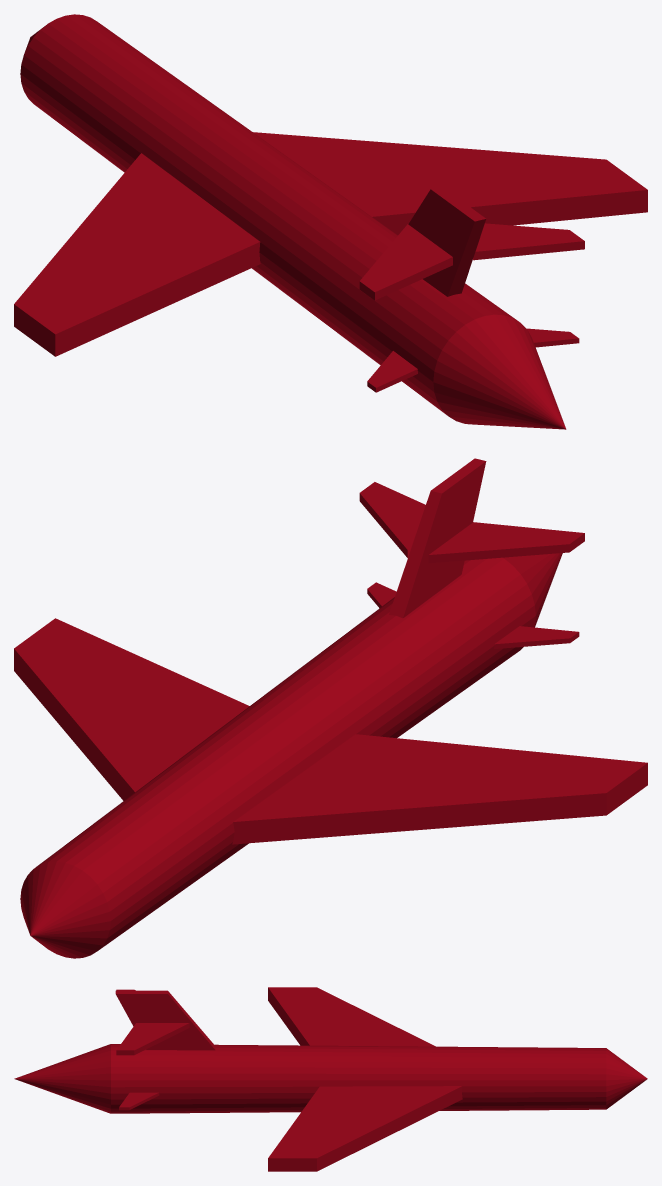
Rendered from samolot_przeciwnik.glb.
3 views of the same model, one above another, from view 1: azimuth 30°, elevation 25°; view 2: azimuth 150°, elevation 25°; view 3: azimuth 270°, elevation 25° (orthographic). The views are drawn at different scales.
Parts seen in each view (by area): view 1: Cylinder; view 2: Cylinder; view 3: Cylinder.
Part boxes in pixels (left/top/right/bottom): Cylinder: left=14, top=14, right=647, bottom=429; Cylinder: left=14, top=458, right=647, bottom=958; Cylinder: left=14, top=987, right=647, bottom=1171.
Bounding box in the file's own units: 9.74 × 3.14 × 15.27.
